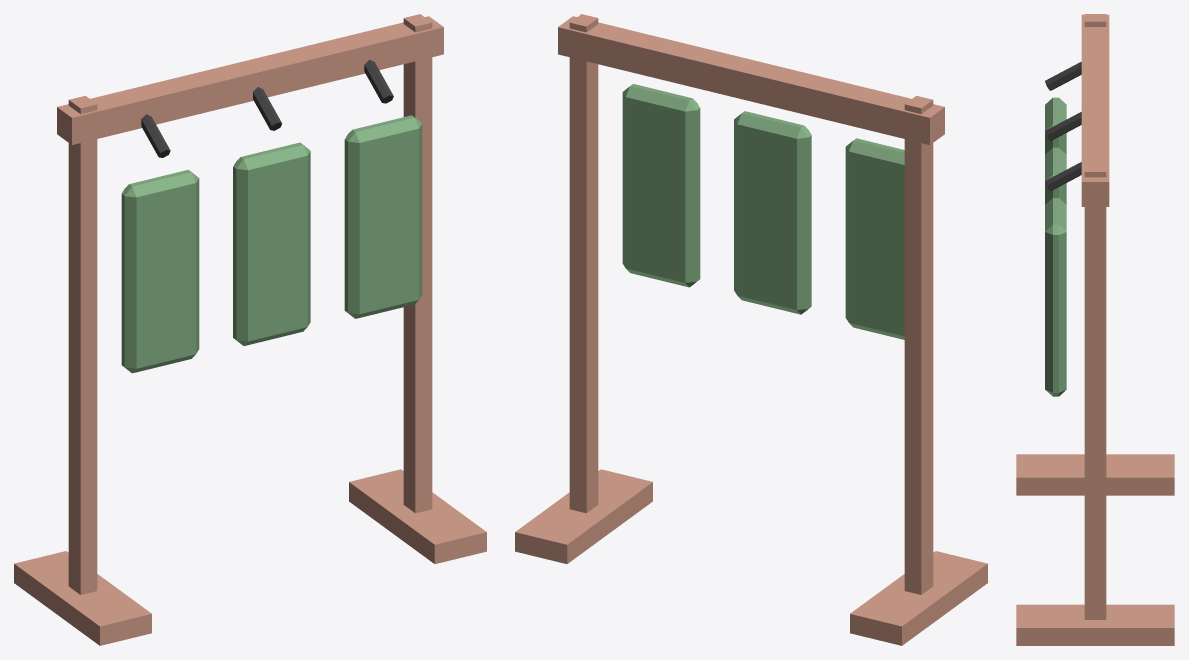
3 renders of one model, left to right at view 1: azimuth 30°, elevation 25°; view 2: azimuth 150°, elevation 25°; view 3: azimuth 270°, elevation 25°, orthographic. The views are drawn at different scales.
Parts seen in each view (by area): view 1: Coat rack beam, Hanging cloth.002, Hanging cloth, Hanging cloth.001, Coat rack upright, Coat rack upright.001, Coat rack foot.001, Coat rack foot; view 2: Coat rack beam, Hanging cloth.002, Hanging cloth.001, Coat rack upright, Coat rack upright.001, Hanging cloth, Coat rack foot.001, Coat rack foot; view 3: Coat rack upright.001, Coat rack foot.001, Coat rack foot, Coat rack beam, Hanging cloth.002, Hanging cloth, Hanging cloth.001, Hook.002, Hook, Hook.001, Coat rack upright.
Part boxes in pixels (bbox=[...]): Coat rack beam: bbox=[57, 16, 443, 144]; Hanging cloth.002: bbox=[344, 115, 422, 318]; Hanging cloth: bbox=[121, 169, 199, 373]; Hanging cloth.001: bbox=[233, 142, 310, 345]; Coat rack upright: bbox=[68, 95, 97, 594]; Coat rack upright.001: bbox=[403, 14, 432, 513]; Coat rack foot.001: bbox=[349, 469, 486, 563]; Coat rack foot: bbox=[14, 551, 151, 645]; Coat rack beam: bbox=[558, 16, 944, 144]; Hanging cloth.002: bbox=[622, 84, 700, 287]; Hanging cloth.001: bbox=[734, 111, 811, 314]; Coat rack upright: bbox=[904, 95, 933, 594]; Coat rack upright.001: bbox=[569, 14, 598, 513]; Hanging cloth: bbox=[845, 138, 904, 339]; Coat rack foot.001: bbox=[515, 469, 652, 563]; Coat rack foot: bbox=[850, 551, 987, 645]; Coat rack upright.001: bbox=[1084, 164, 1106, 619]; Coat rack foot.001: bbox=[1016, 604, 1174, 645]; Coat rack foot: bbox=[1016, 454, 1174, 495]; Coat rack beam: bbox=[1081, 14, 1109, 206]; Hanging cloth.002: bbox=[1045, 198, 1066, 396]; Hanging cloth: bbox=[1045, 97, 1066, 154]; Hanging cloth.001: bbox=[1045, 147, 1066, 204]; Hook.002: bbox=[1045, 162, 1081, 190]; Hook: bbox=[1045, 61, 1081, 90]; Hook.001: bbox=[1045, 112, 1081, 140]; Coat rack upright: bbox=[1084, 14, 1106, 26].
Size of the model in its own units: 104 by 130 by 40.
